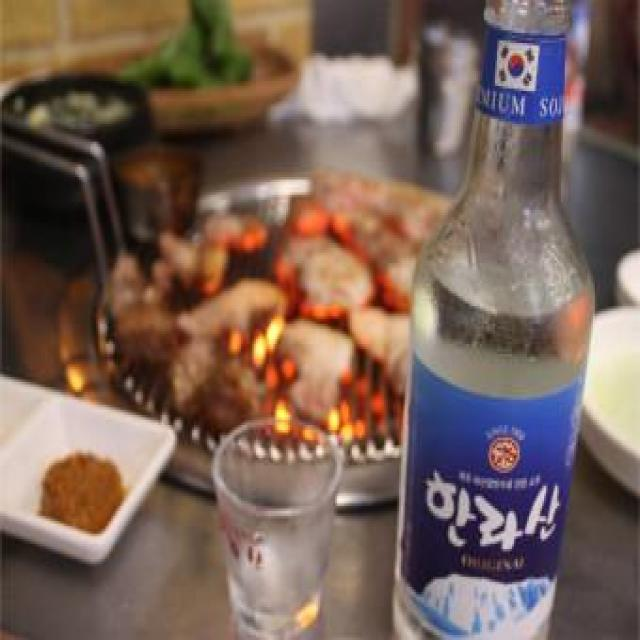soju-bottle: (391, 2, 594, 640)
